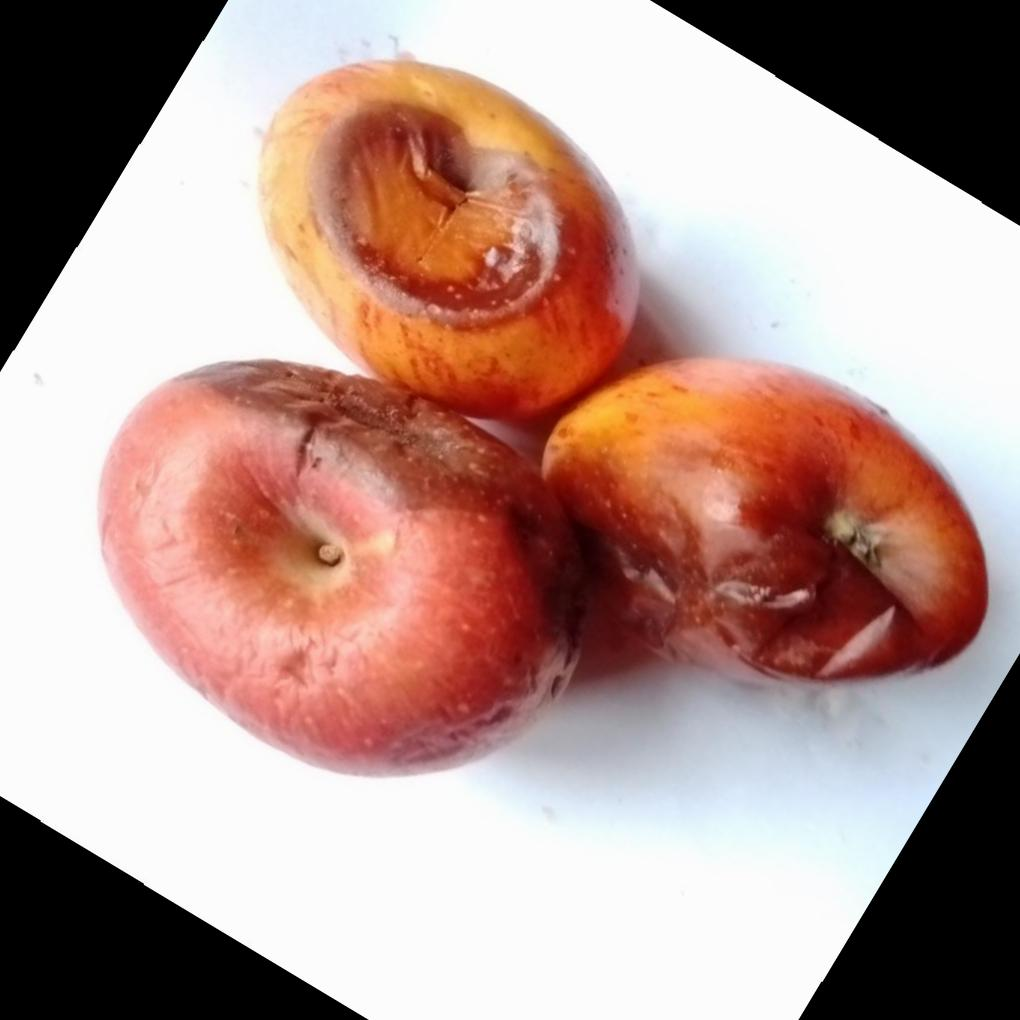FreshOrange: (98, 58, 989, 778)
